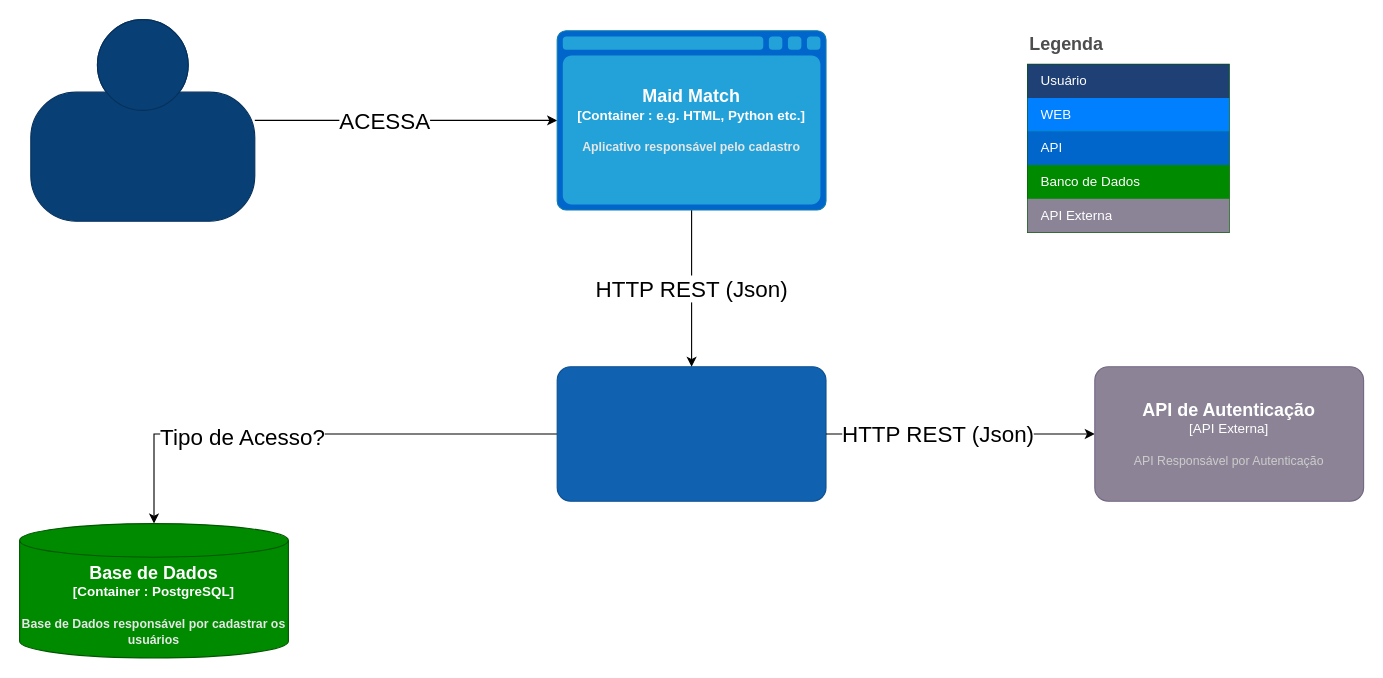
The diagram is 1383 pixels wide and 678 high, and some of its shapes have lost their labels. The shapes that lost their labels are listed below. From the top down, each one's centre as x and y in pixels, then its label:
At [142,119]: "Clientes [Usuário] Usuário acessa o sistema".
At [691,433]: "API Cadastro [API] API Responsável pelo Cadastro".
